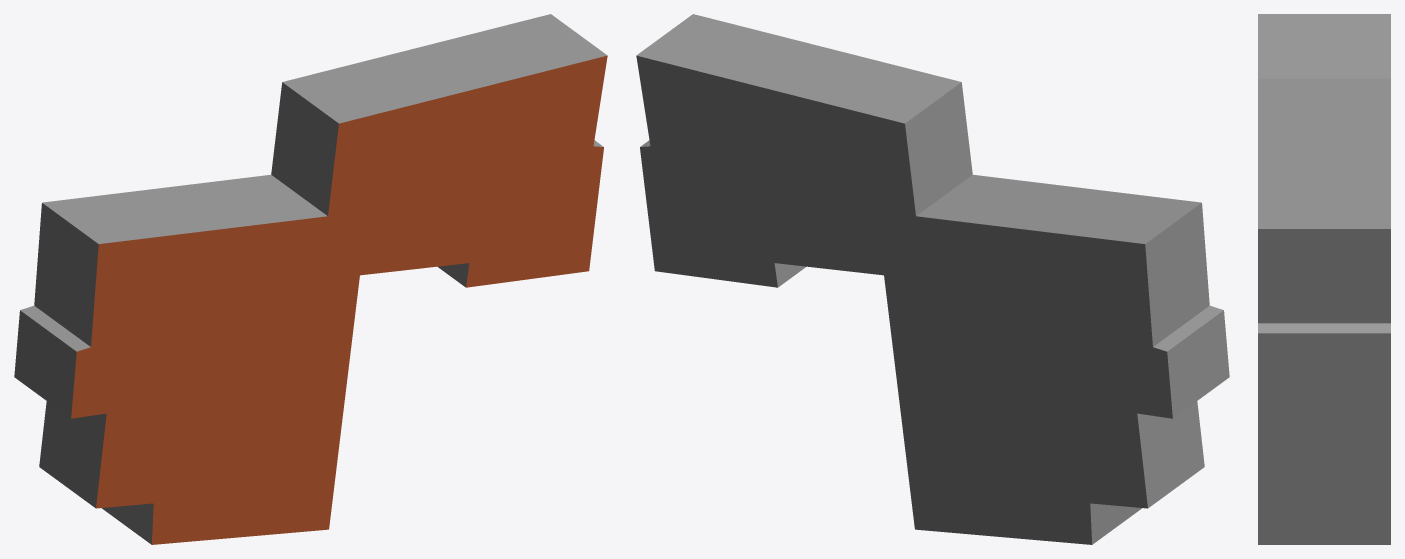
Rendered from construction_5389_assumed_A_Casa_h6m.obj.
3 views of the same model, side by side, from view 1: azimuth 30°, elevation 25°; view 2: azimuth 150°, elevation 25°; view 3: azimuth 270°, elevation 25° (orthographic). The views are drawn at different scales.
Visible parts, largest first — view 1: construction_5389_assumed_A_Casa; view 2: construction_5389_assumed_A_Casa; view 3: construction_5389_assumed_A_Casa.
Part boxes in pixels (left/top/right/bottom): construction_5389_assumed_A_Casa: left=14, top=14, right=607, bottom=544; construction_5389_assumed_A_Casa: left=636, top=14, right=1229, bottom=544; construction_5389_assumed_A_Casa: left=1258, top=14, right=1390, bottom=544.
Size of the model in its own units: 32.73 by 23.67 by 6.
